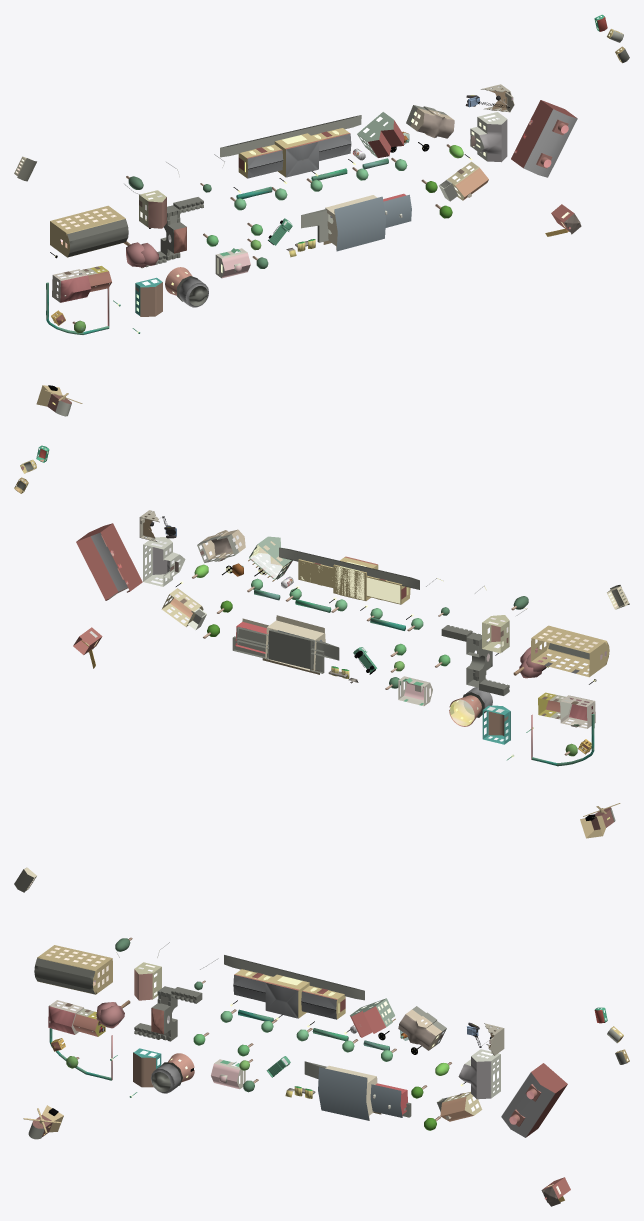
The model's file is background-3d.gltf.
The picture shows the model from 3 angles, top to bottom: view 1: azimuth 30°, elevation 25°; view 2: azimuth 150°, elevation 25°; view 3: azimuth 330°, elevation 25°; orthographic projection.
Visible parts, largest first — view 1: asset9_copy12, Cube42 (×2), Cube40, Cube41_sep44, Cube70 (×2), Cube47, Cube50, Cube52_sep53, Cylinder37, Cube51, Cube48, Cube43 (+3 smaller); view 2: Cube42 (×2), Cube40, asset9_copy12, Cube41_sep44, Cube70 (×2), Cube47, Cube50, Cube52_sep53, Cylinder37, Cube51, Cube48, Cube43 (+1 smaller); view 3: asset9_copy12, Cube42 (×2), Cube40, Cube41_sep44, Cube70 (×2), Cube50, Cube47, Cylinder37, Cube52_sep53, Cube51, Cube43, Cube48 (+4 smaller).
Part boxes in pixels (x1,y1,x2,y2): asset9_copy12: (220, 115, 361, 178); Cube42 (×2): (141, 100, 577, 268); Cube40: (301, 193, 411, 251); Cube41_sep44: (50, 205, 128, 257); Cube70 (×2): (36, 105, 454, 416); Cube47: (52, 266, 111, 302); Cube50: (470, 112, 507, 162); Cube52_sep53: (357, 112, 404, 157); Cylinder37: (165, 267, 208, 307); Cube51: (439, 161, 488, 201); Cube48: (135, 277, 162, 316); Cube43: (139, 190, 166, 228); Cube42 (×2): (76, 523, 509, 695); Cube40: (232, 615, 339, 674); asset9_copy12: (279, 547, 419, 604); Cube41_sep44: (531, 625, 609, 677); Cube70 (×2): (197, 529, 620, 838); Cube47: (538, 692, 595, 728); Cube50: (143, 537, 185, 586); Cube52_sep53: (248, 536, 292, 581); Cylinder37: (449, 687, 492, 726); Cube51: (161, 588, 206, 629); Cube48: (482, 705, 510, 744); Cube43: (482, 615, 509, 653); asset9_copy12: (224, 955, 364, 1019); Cube42 (×2): (134, 986, 567, 1137); Cube40: (304, 1061, 411, 1120); Cube41_sep44: (34, 945, 112, 994); Cube70 (×2): (23, 1006, 446, 1139); Cube50: (458, 1049, 500, 1099); Cube47: (48, 1000, 105, 1036); Cylinder37: (151, 1053, 194, 1093); Cube52_sep53: (350, 998, 395, 1037); Cube51: (437, 1092, 482, 1121); Cube43: (134, 962, 161, 1000); Cube48: (133, 1048, 161, 1087).
Size of what is drawn, in the model's own units: 0.9199 by 0.3711 by 0.0719.
Materials: 44 (20 with a texture image).
